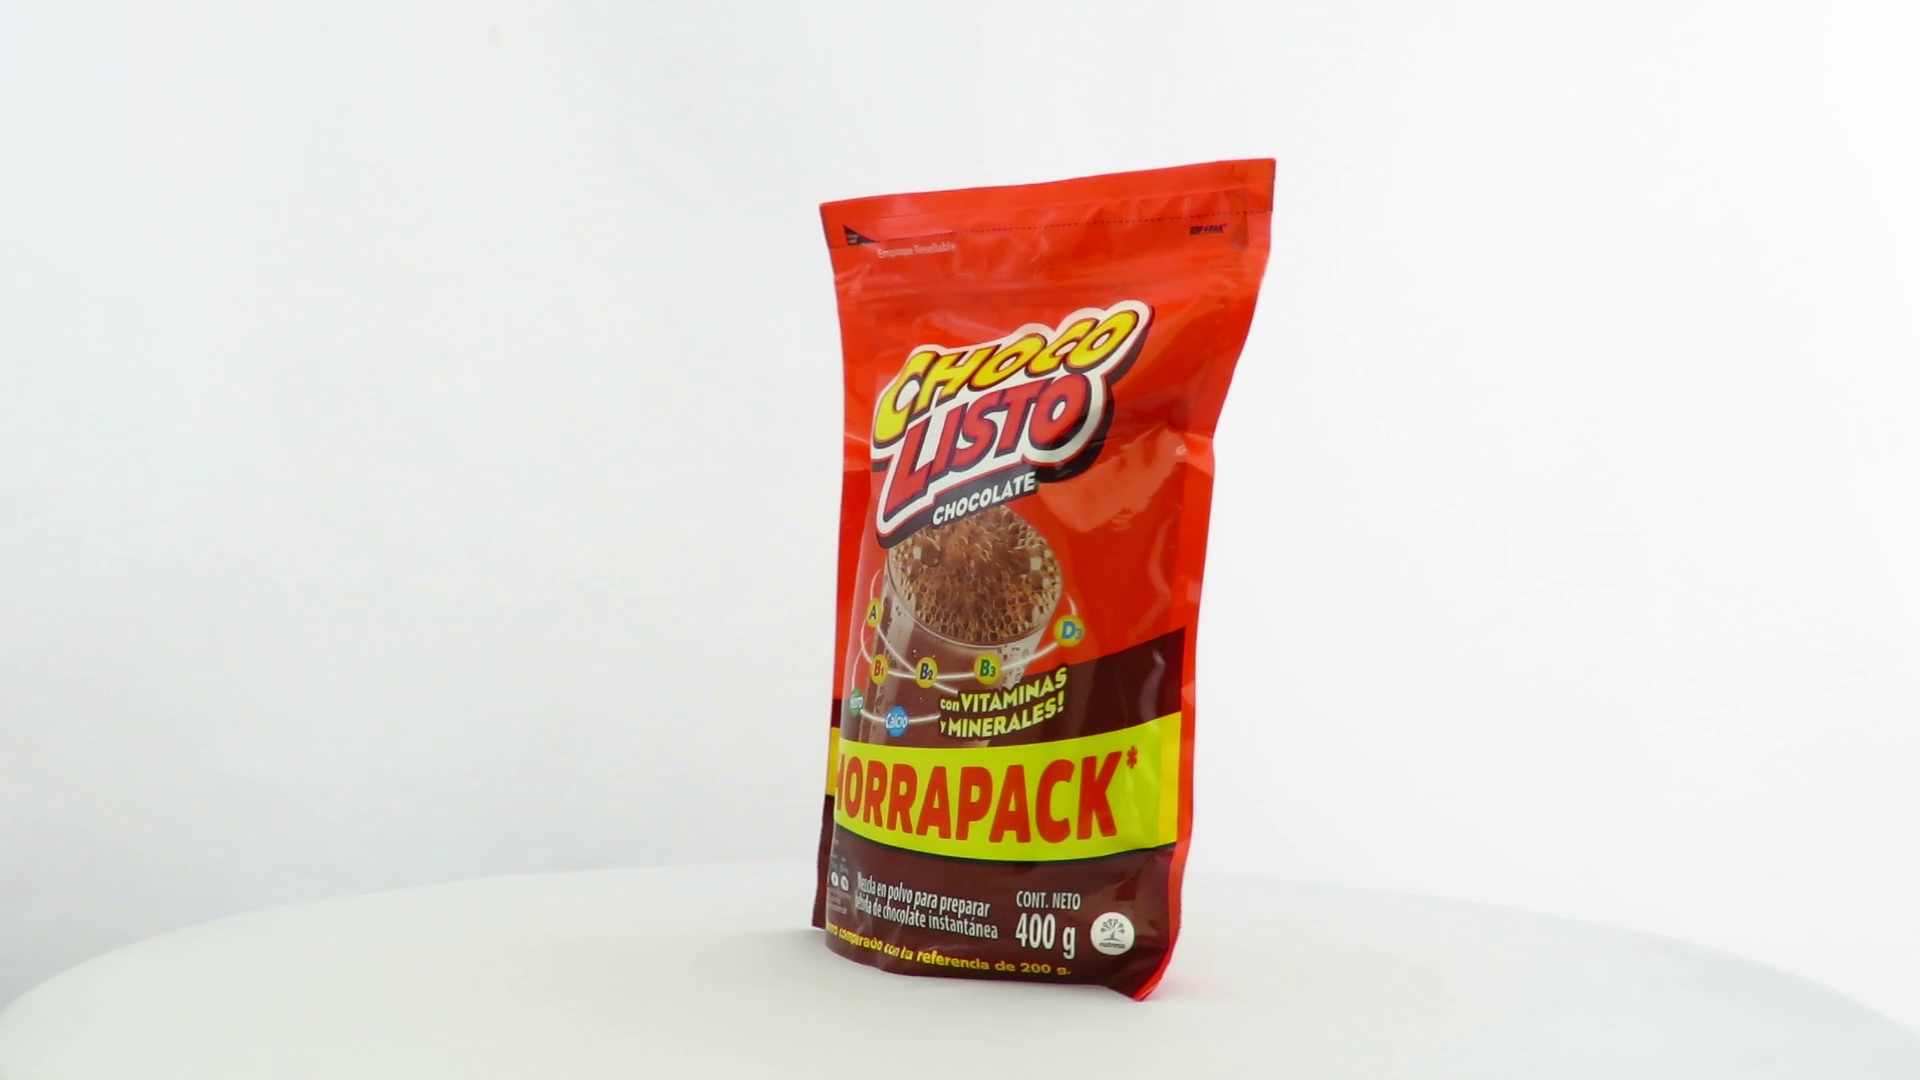COL0170103DYP40000: (807, 153, 1282, 1007)
